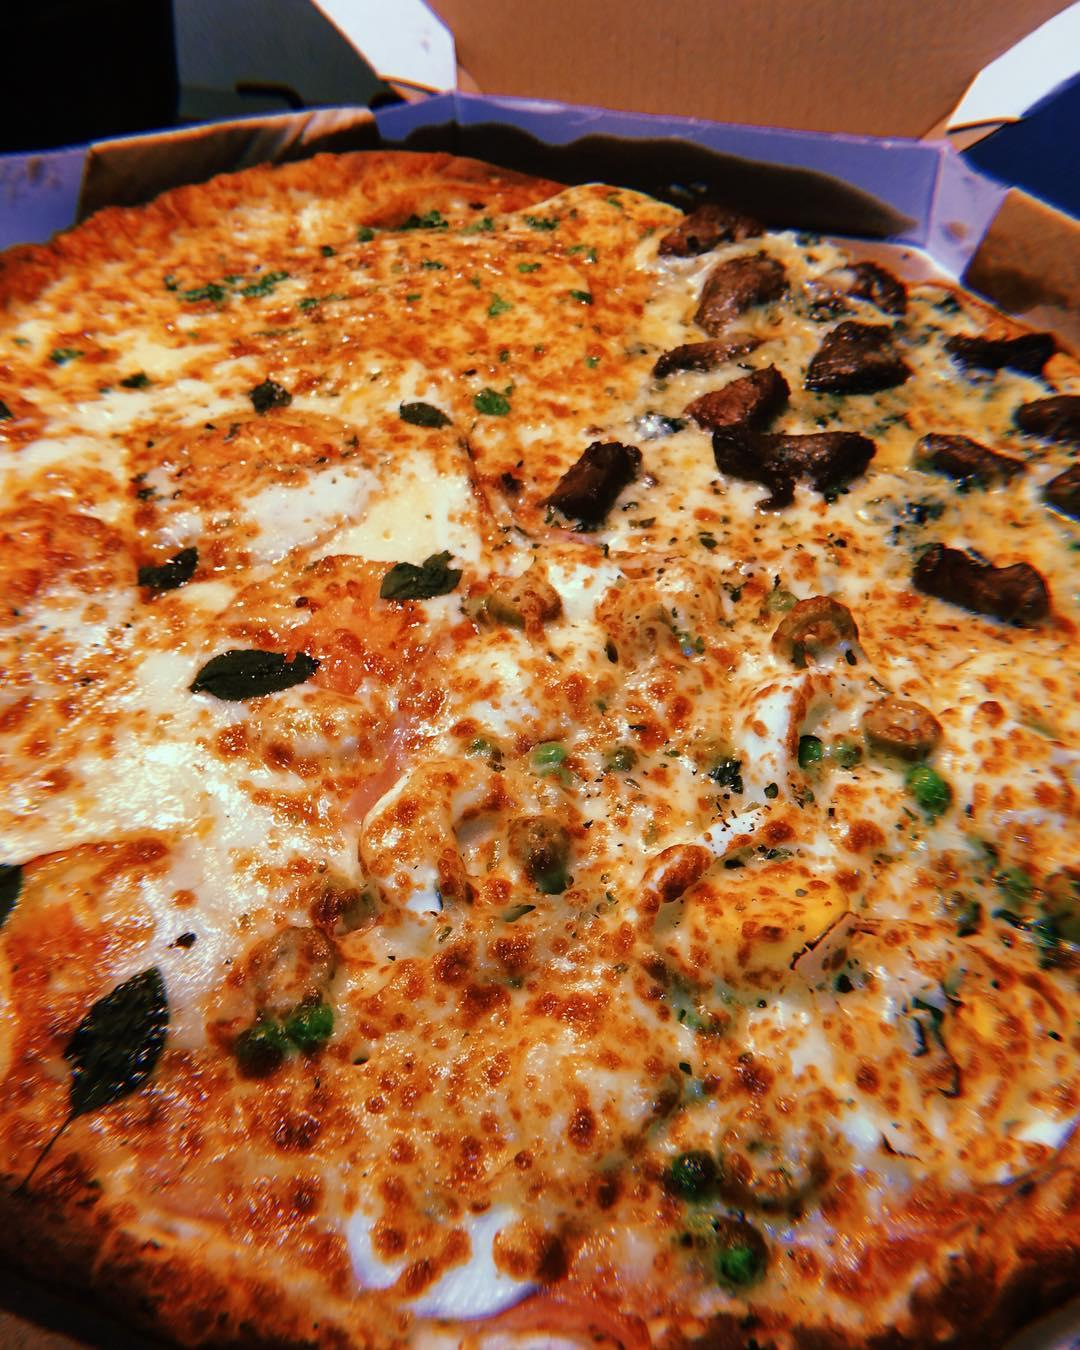Basil: (63, 968, 179, 1104), (180, 649, 320, 698), (138, 542, 198, 595), (386, 553, 460, 596), (399, 399, 451, 434), (253, 378, 292, 407), (474, 387, 511, 413)
Cheese: (46, 746, 268, 886), (258, 458, 458, 553), (111, 644, 218, 736), (39, 398, 143, 476), (126, 328, 226, 410)
Mushroom: (918, 547, 1059, 631), (711, 431, 872, 495), (542, 443, 640, 528), (690, 253, 789, 332), (806, 321, 909, 393), (910, 428, 1019, 488), (689, 370, 791, 430), (949, 322, 1054, 375), (658, 203, 749, 256), (818, 261, 909, 313), (1019, 395, 1080, 443), (652, 341, 762, 366), (1037, 465, 1080, 526)
Pizza: (0, 156, 1080, 1350)
